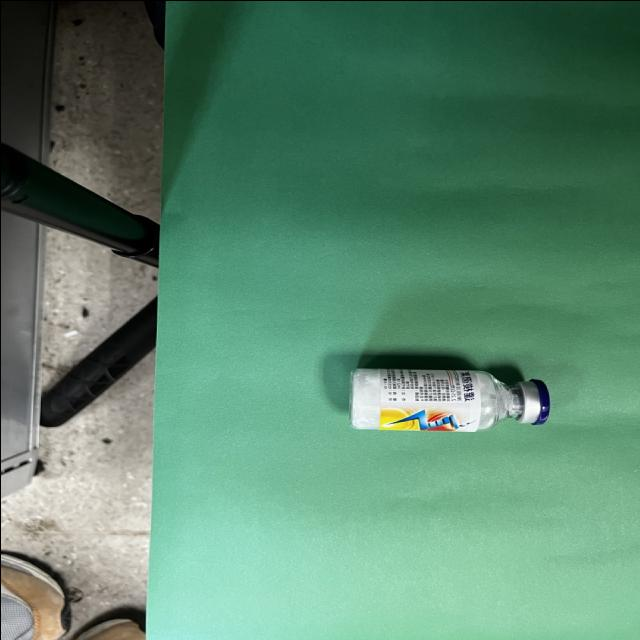Vials: (349, 368, 549, 431)
